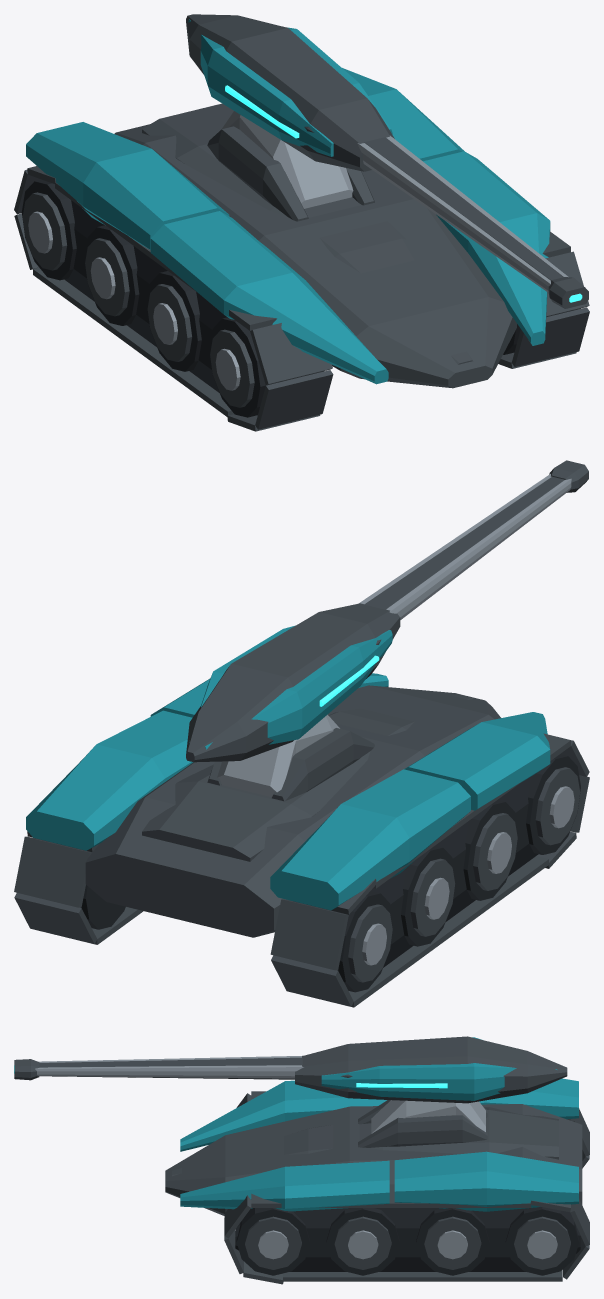
The model's file is far.glb.
3 views of the same model, one above another, from view 1: azimuth 30°, elevation 25°; view 2: azimuth 150°, elevation 25°; view 3: azimuth 270°, elevation 25° (orthographic). The views are drawn at different scales.
Parts seen in each view (by area): view 1: chassis, gaussAssembly, trackL, roadWheelL3, roadWheelL2, roadWheelL1, roadWheelL0, trackR; view 2: chassis, gaussAssembly, trackL, trackR, roadWheelL1, roadWheelL2, roadWheelL0, roadWheelL3, roadWheelR3; view 3: chassis, gaussAssembly, trackR, roadWheelR3, roadWheelR0, roadWheelR1, roadWheelR2, trackL.
Boxes of the visible parts, left/top/right/bottom form: chassis: left=26, top=68, right=550, bottom=388; gaussAssembly: left=186, top=14, right=588, bottom=308; trackL: left=14, top=166, right=333, bottom=431; roadWheelL3: left=21, top=179, right=76, bottom=280; roadWheelL2: left=84, top=225, right=139, bottom=325; roadWheelL1: left=146, top=271, right=201, bottom=371; roadWheelL0: left=209, top=317, right=324, bottom=417; trackR: left=498, top=231, right=589, bottom=368; chassis: left=26, top=673, right=550, bottom=937; gaussAssembly: left=186, top=460, right=588, bottom=762; trackL: left=270, top=733, right=589, bottom=1007; trackR: left=14, top=831, right=143, bottom=944; roadWheelL1: left=463, top=800, right=518, bottom=900; roadWheelL2: left=401, top=845, right=455, bottom=946; roadWheelL0: left=526, top=754, right=580, bottom=854; roadWheelL3: left=293, top=891, right=393, bottom=992; roadWheelR3: left=34, top=838, right=125, bottom=929; chassis: left=165, top=1078, right=582, bottom=1215; gaussAssembly: left=14, top=1036, right=567, bottom=1103; trackR: left=224, top=1184, right=589, bottom=1284; roadWheelR3: left=505, top=1207, right=579, bottom=1275; roadWheelR0: left=236, top=1208, right=309, bottom=1275; roadWheelR1: left=326, top=1208, right=399, bottom=1275; roadWheelR2: left=416, top=1208, right=489, bottom=1275; trackL: left=236, top=1091, right=589, bottom=1168.
Size of the model in its own units: 1.68 by 1.21 by 3.47.
